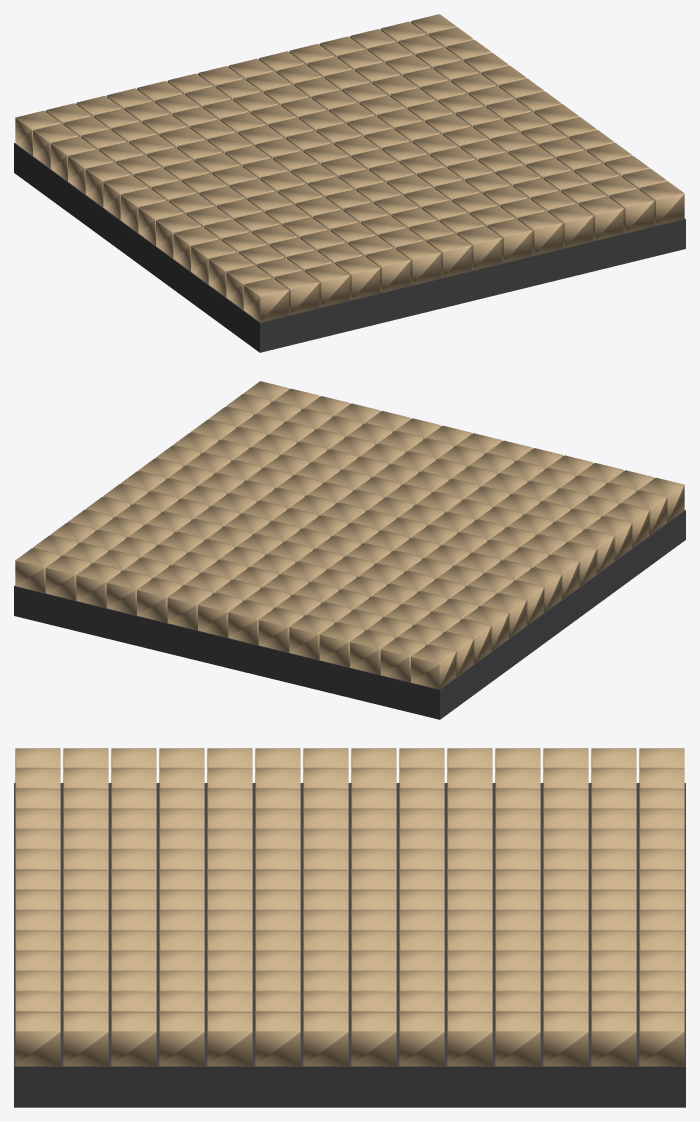
File: 29-sidewalk-plain.glb
The picture shows the model from 3 angles, top to bottom: view 1: azimuth 30°, elevation 25°; view 2: azimuth 150°, elevation 25°; view 3: azimuth 270°, elevation 25°; orthographic projection. The views are drawn at different scales.
Parts seen in each view (by area): view 1: Pavers, Base; view 2: Pavers, Base; view 3: Pavers, Base.
Boxes of the visible parts, left/top/right/bottom form: Pavers: left=15, top=14, right=684, bottom=322; Base: left=14, top=143, right=685, bottom=352; Pavers: left=15, top=381, right=684, bottom=689; Base: left=14, top=510, right=685, bottom=719; Pavers: left=15, top=748, right=684, bottom=1066; Base: left=14, top=783, right=685, bottom=1107.
Size of the model in its own units: 3 by 0.373 by 3.
